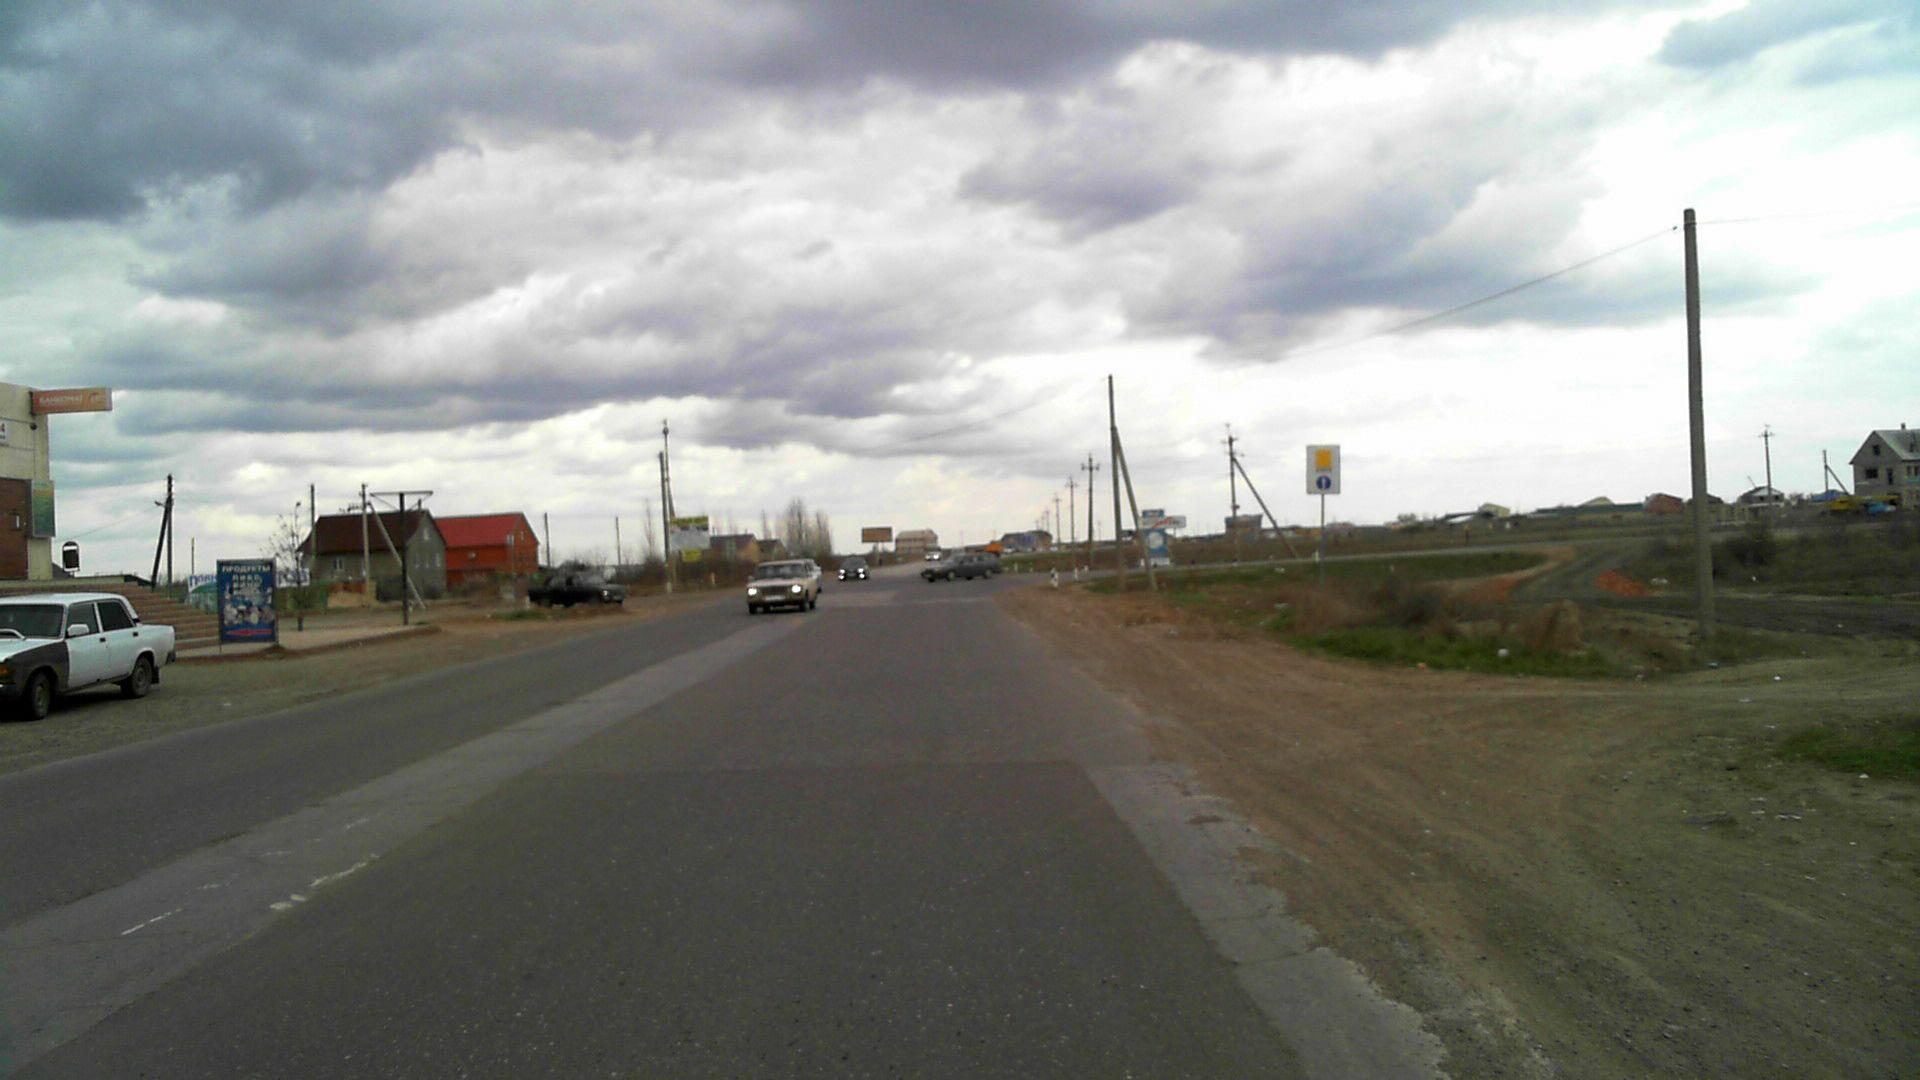4_8_1: (1307, 444, 1340, 495)
5_15_1: (1015, 531, 1040, 546)
5_24_1: (1137, 516, 1189, 530)
